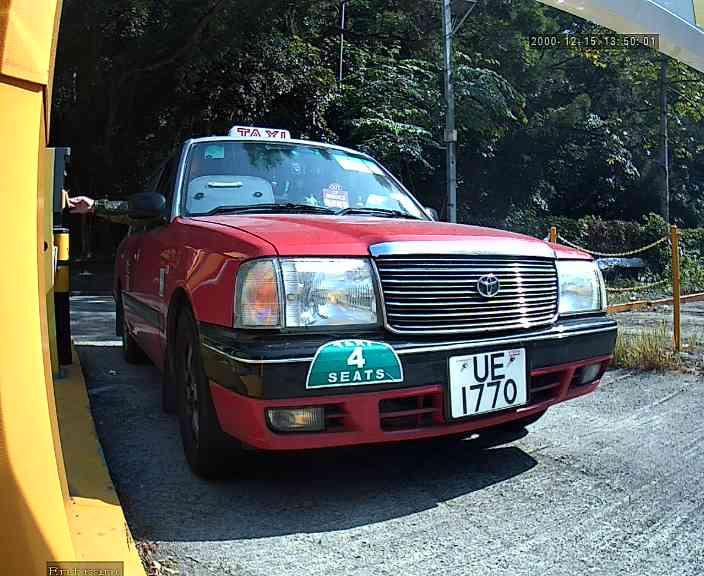Car: (89, 25, 626, 503)
License Plate: (436, 342, 536, 425)
